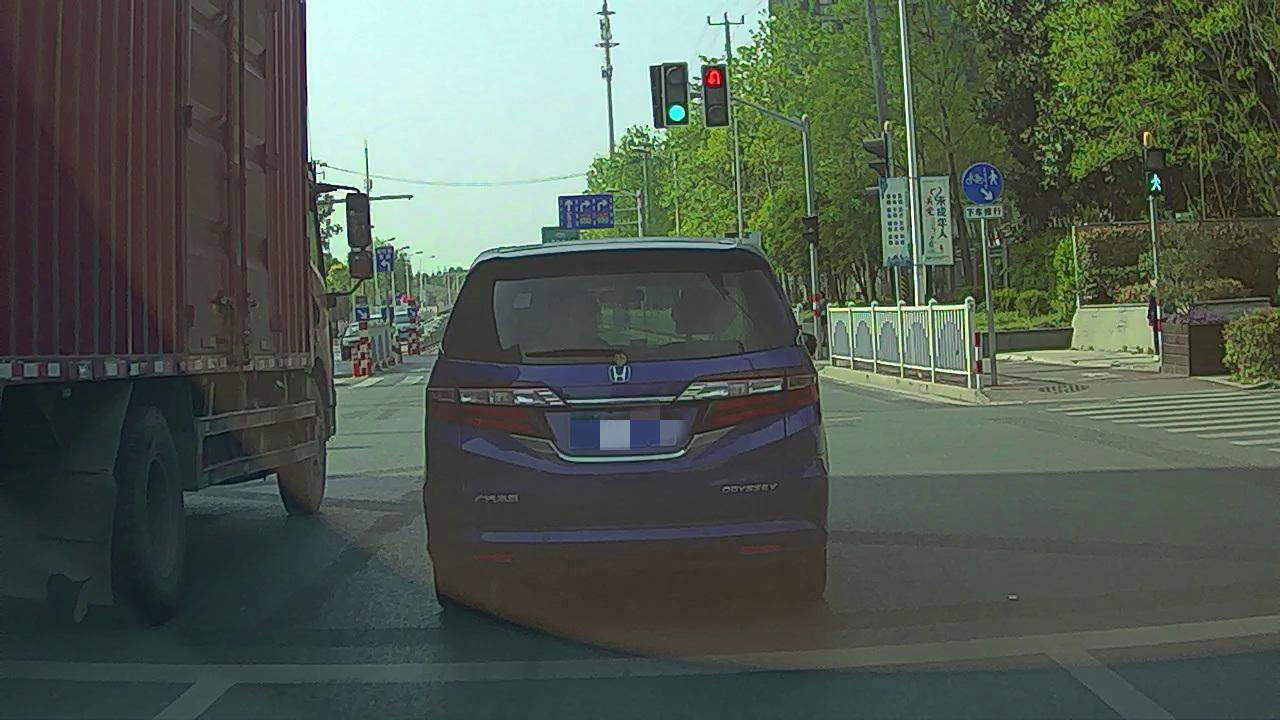traffic_light: (703, 63, 728, 127), (664, 63, 686, 124)
